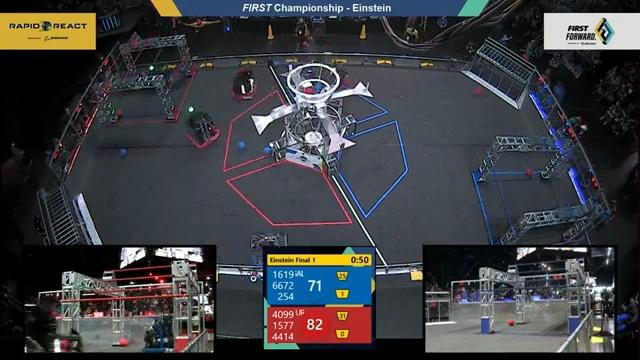robot: (245, 227, 294, 271), (179, 105, 222, 153), (308, 55, 347, 95), (135, 61, 183, 91), (142, 316, 173, 354), (227, 62, 257, 101)
